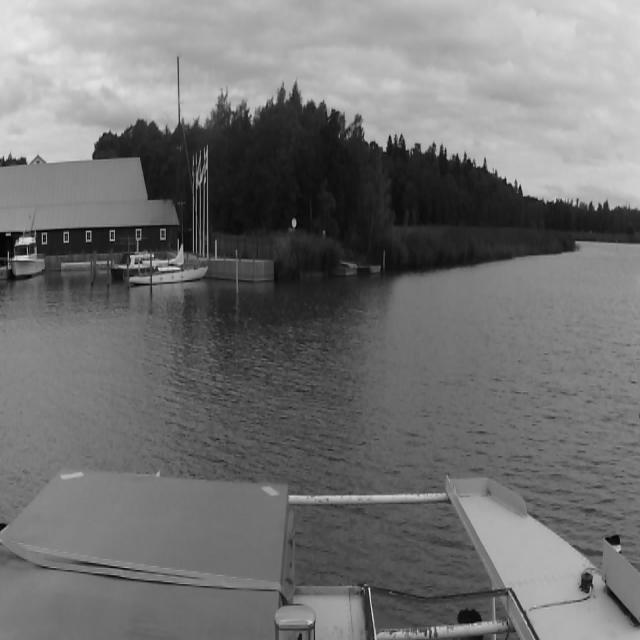buoy: (234, 251, 238, 304)
ship: (127, 199, 194, 285), (10, 233, 46, 282)
